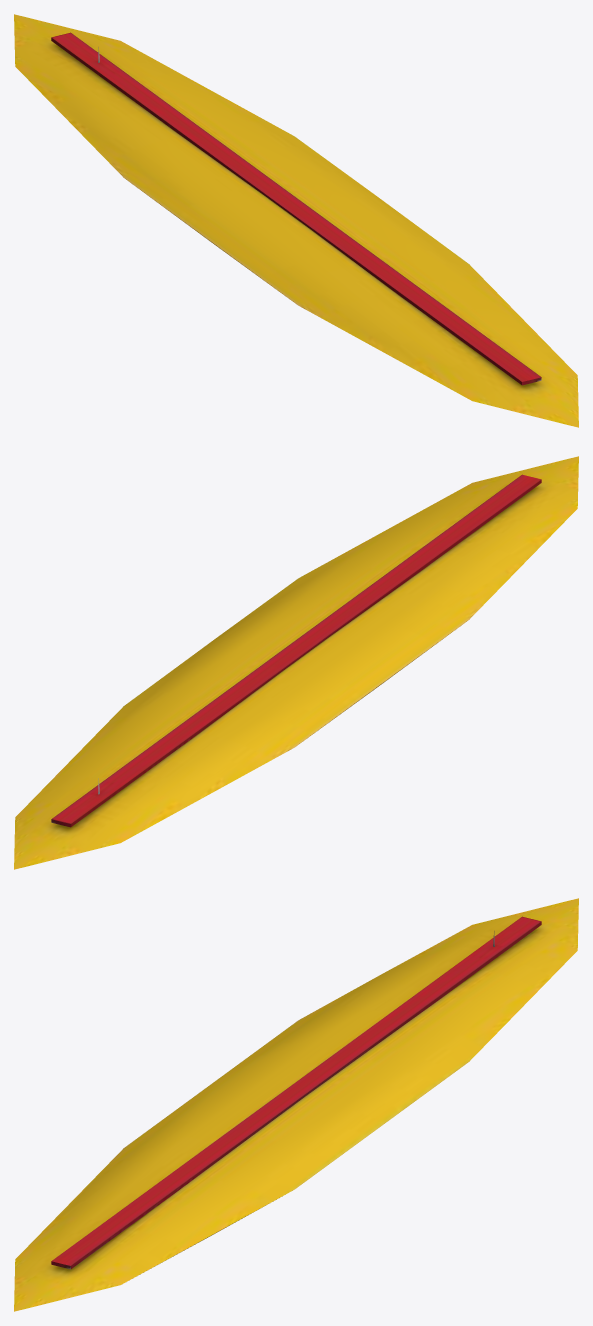
The model's file is tabla_surf.glb.
3 renders of one model, top to bottom at view 1: azimuth 30°, elevation 25°; view 2: azimuth 150°, elevation 25°; view 3: azimuth 330°, elevation 25°, orthographic.
Parts seen in each view (by area): view 1: tabla_surf; view 2: tabla_surf; view 3: tabla_surf.
Boxes of the visible parts, x1,y1,x2,y2 form: tabla_surf: (14, 14, 578, 427); tabla_surf: (14, 456, 578, 869); tabla_surf: (14, 898, 578, 1311).
Bounding box in the file's own units: 1.05 × 0.3 × 6.
1 material, 1 textured.
